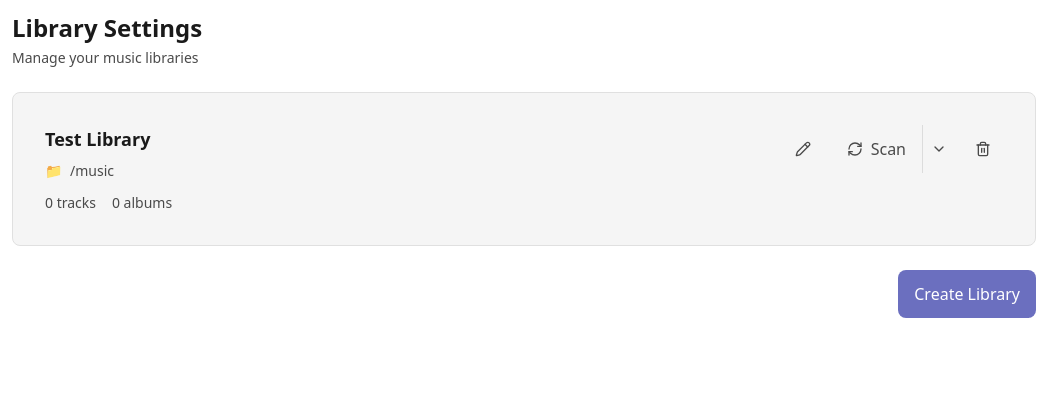
Test: Library Scan Progress › should display error message when scan fails to start
Try to start scan
Click the button with test id "scan-library-button-1".
click(876, 149)  # box [831,125,922,173]
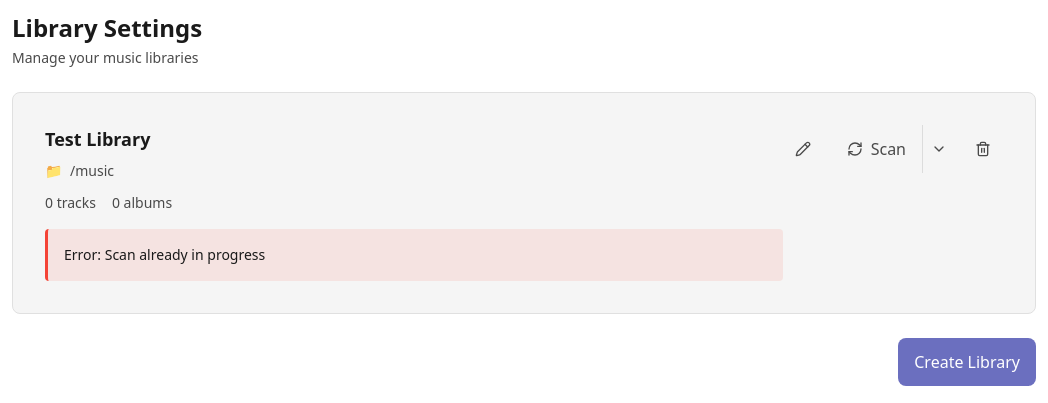
Expected: the text "Error: Scan already in progress" is shown, [45,229,783,281]
Expected: the text with test id "scan-error-message-1" shows "already in progress", [64,245,265,264]
